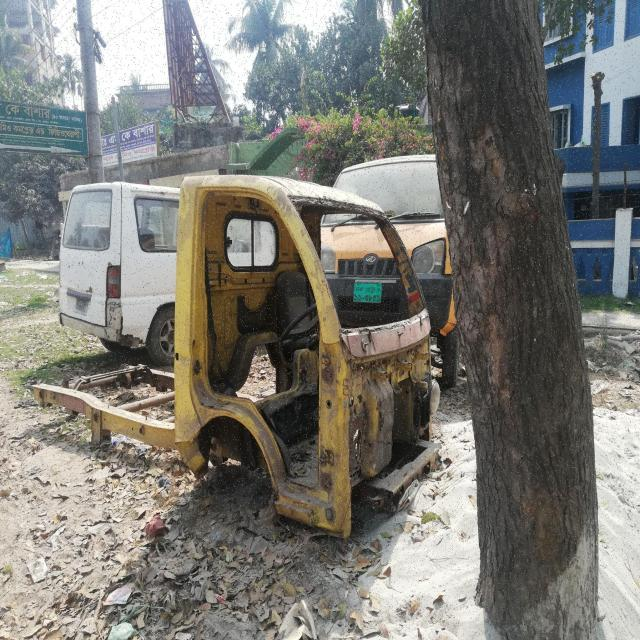numberplate: (351, 280, 383, 304)
